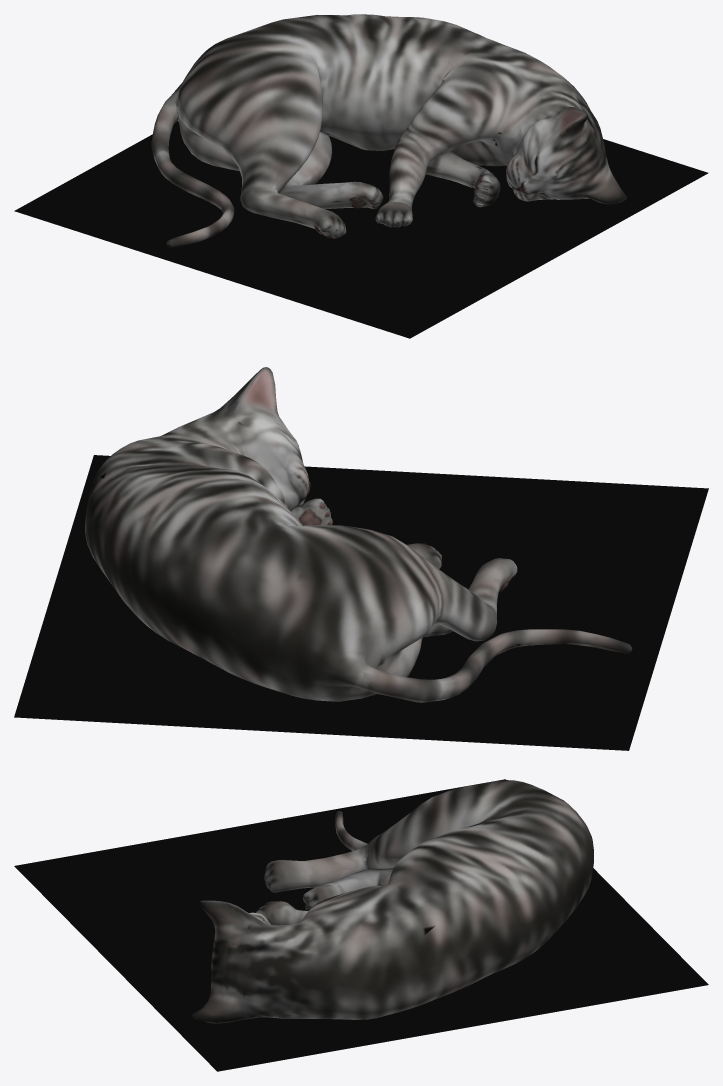
Rendered from Others_865caabf-2291-55ab-8d8b-aa53b82c1097.glb.
The picture shows the model from 3 angles, top to bottom: view 1: azimuth 30°, elevation 25°; view 2: azimuth 150°, elevation 25°; view 3: azimuth 270°, elevation 25°; orthographic projection. The views are drawn at different scales.
Parts seen in each view (by area): view 1: raw_model.obj; view 2: raw_model.obj; view 3: raw_model.obj.
Part boxes in pixels (bbox=[...]): raw_model.obj: bbox=[14, 14, 708, 338]; raw_model.obj: bbox=[14, 367, 708, 750]; raw_model.obj: bbox=[14, 779, 708, 1071].
Size of the model in its own units: 0.7126 by 0.138 by 0.7154.
1 material, 1 textured.
